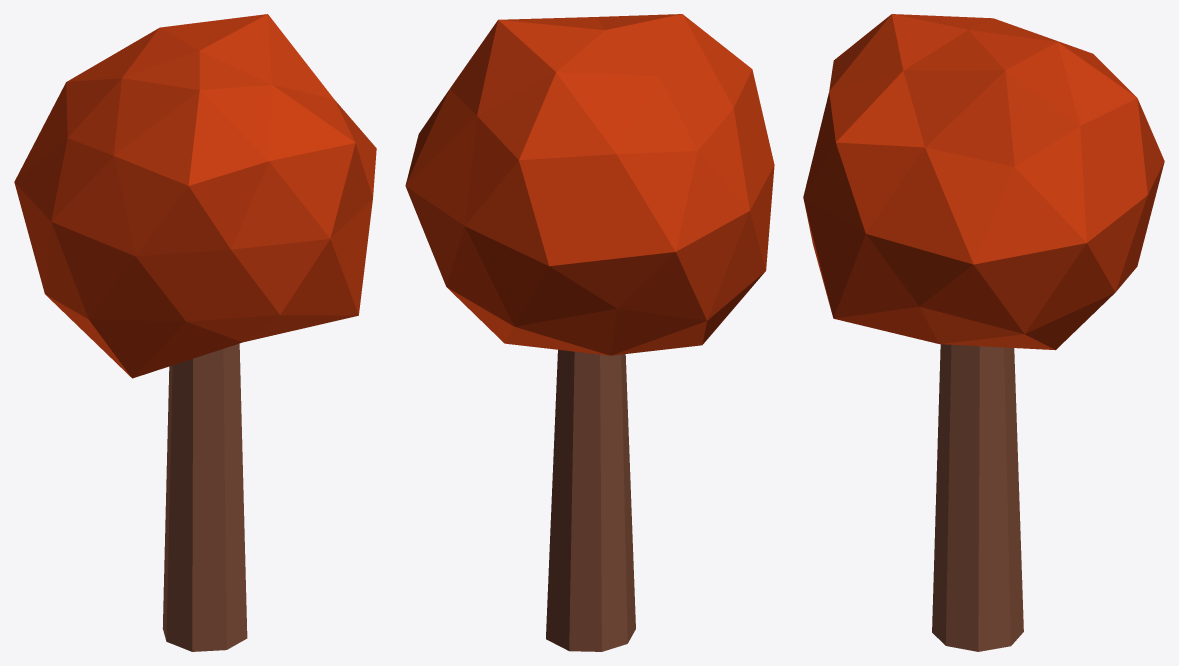
The model's file is Tree_04_summer_red_mat.fbx.
3 views of the same model, side by side, from view 1: azimuth 30°, elevation 25°; view 2: azimuth 150°, elevation 25°; view 3: azimuth 270°, elevation 25° (orthographic). The views are drawn at different scales.
Parts seen in each view (by area): view 1: Tree_04_summer_red_mat; view 2: Tree_04_summer_red_mat; view 3: Tree_04_summer_red_mat.
Part boxes in pixels (left/top/right/bottom): Tree_04_summer_red_mat: left=14, top=14, right=376, bottom=651; Tree_04_summer_red_mat: left=405, top=14, right=774, bottom=651; Tree_04_summer_red_mat: left=803, top=14, right=1164, bottom=651.
Size of the model in its own units: 111 by 193 by 105.
